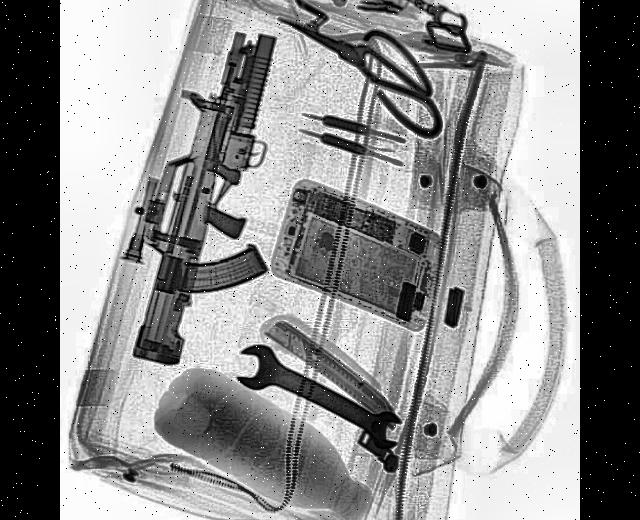Gun: (120, 26, 276, 367)
Knife: (274, 8, 443, 138)
Wrench: (234, 342, 406, 447)
